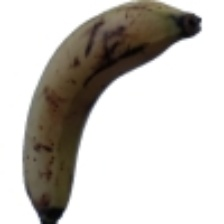banana: (27, 56, 194, 199)
